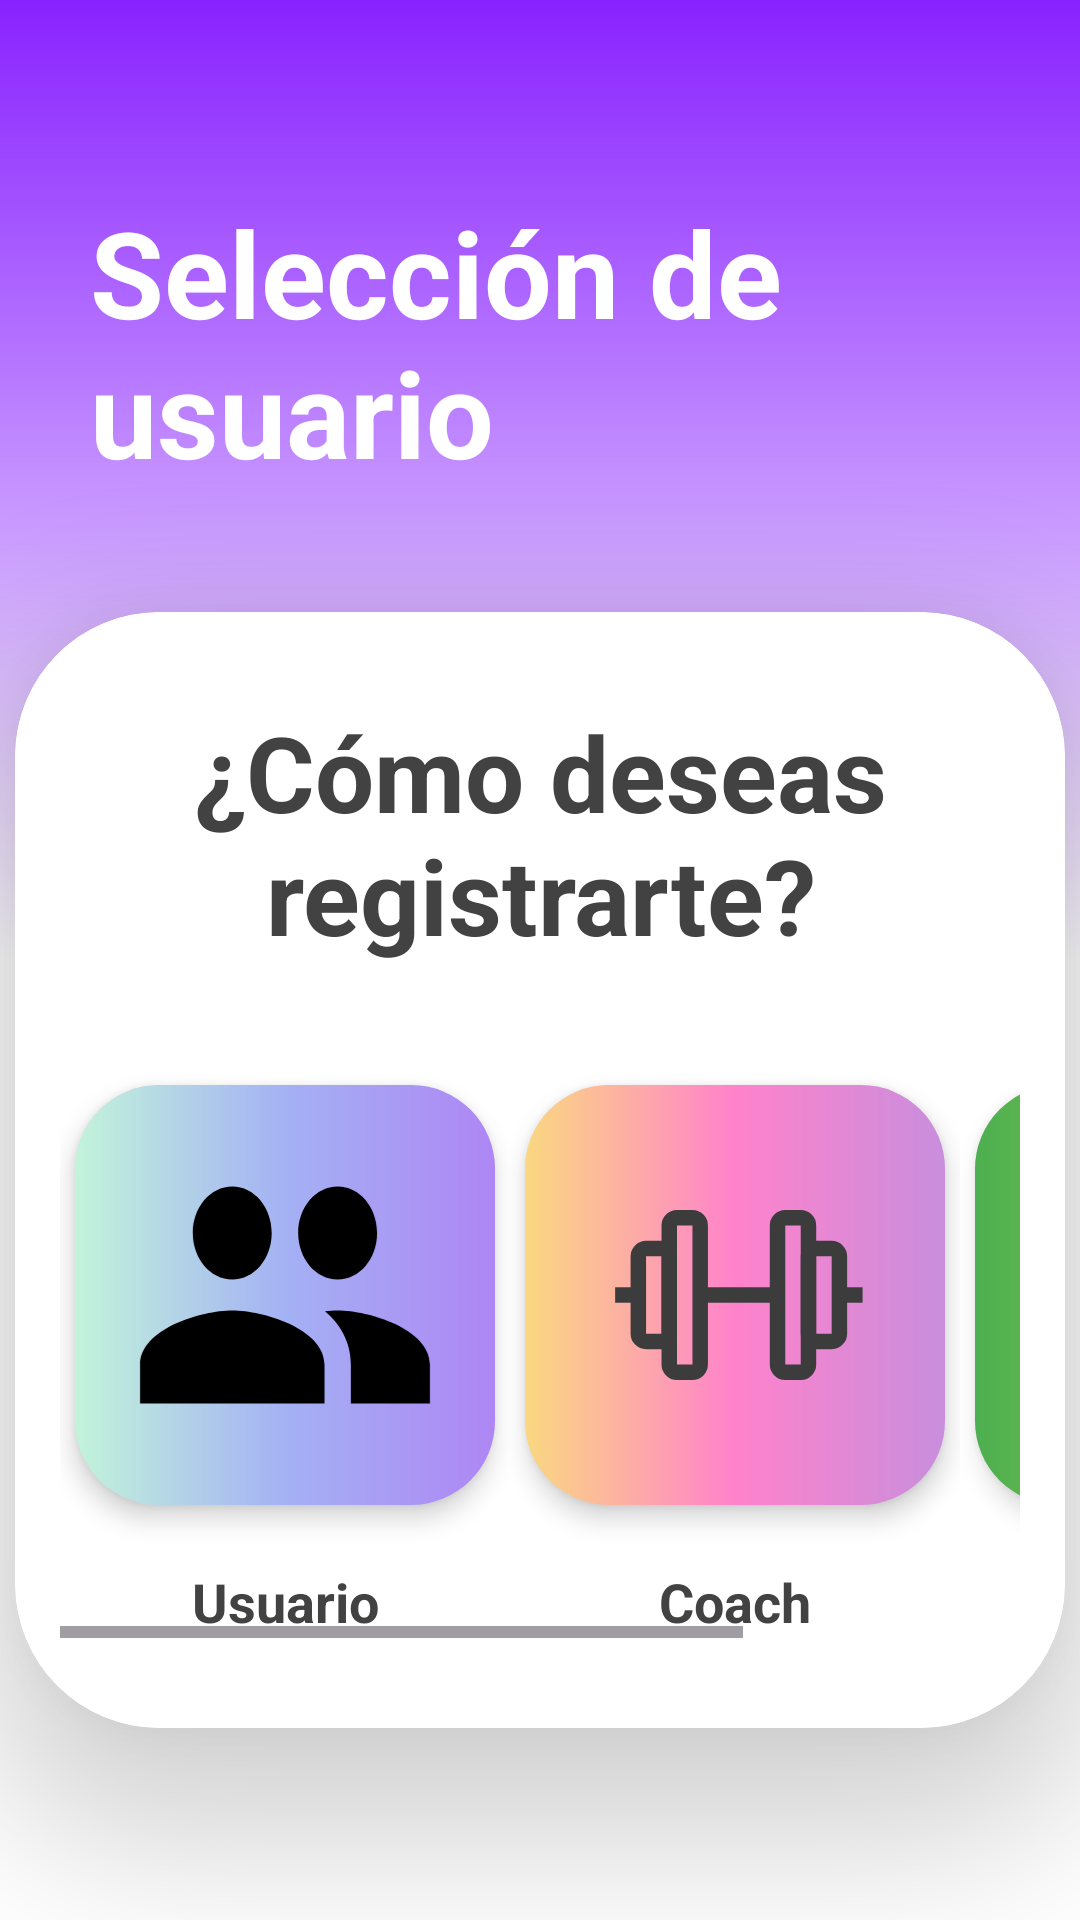

Screen size 1080 x 1920. Icon name, then its center in pixels as point (x, y):
gym: point (735, 1295)
